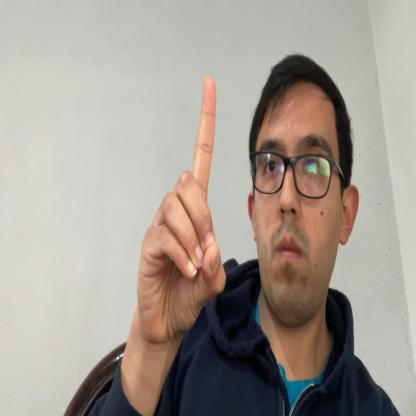D: (137, 75, 227, 341)
